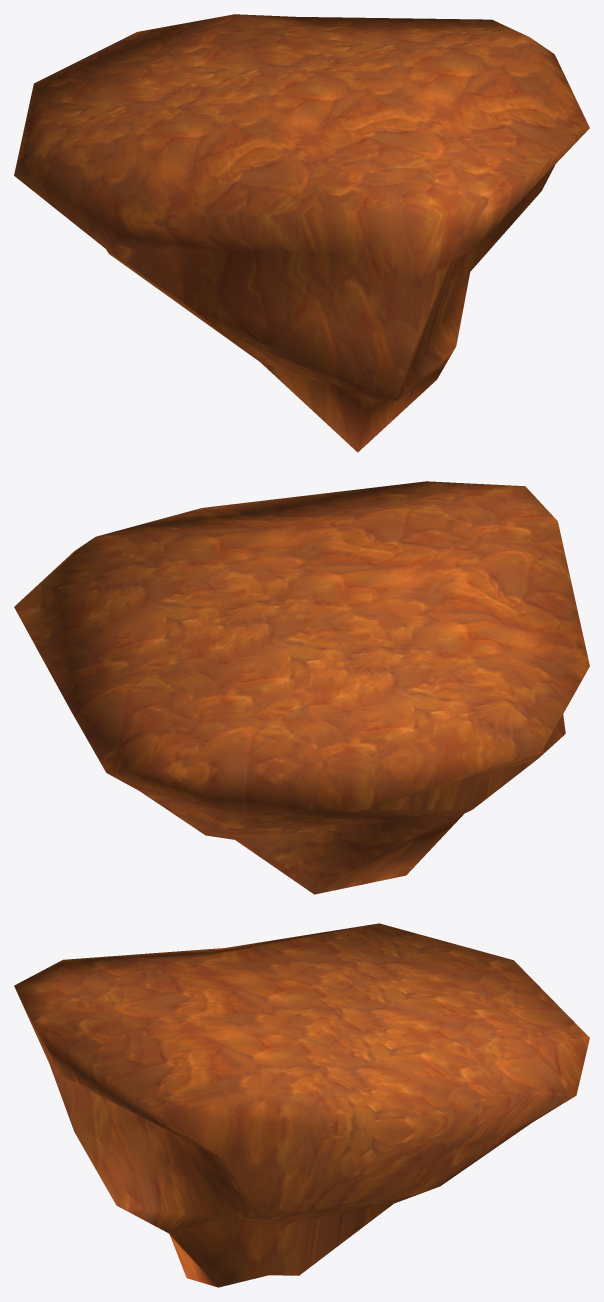
Rendered from durotarcliffrock06.obj.
3 renders of one model, top to bottom at view 1: azimuth 30°, elevation 25°; view 2: azimuth 150°, elevation 25°; view 3: azimuth 270°, elevation 25°, orthographic. The views are drawn at different scales.
Visible parts, largest first — view 1: DurotarCliffRock06; view 2: DurotarCliffRock06; view 3: DurotarCliffRock06.
Part boxes in pixels (bbox=[...]): DurotarCliffRock06: bbox=[14, 14, 589, 452]; DurotarCliffRock06: bbox=[14, 481, 589, 894]; DurotarCliffRock06: bbox=[14, 923, 589, 1287].
Bounding box in the file's own units: 85.79 × 52.31 × 94.23.
Materials: 1 (1 with a texture image).
